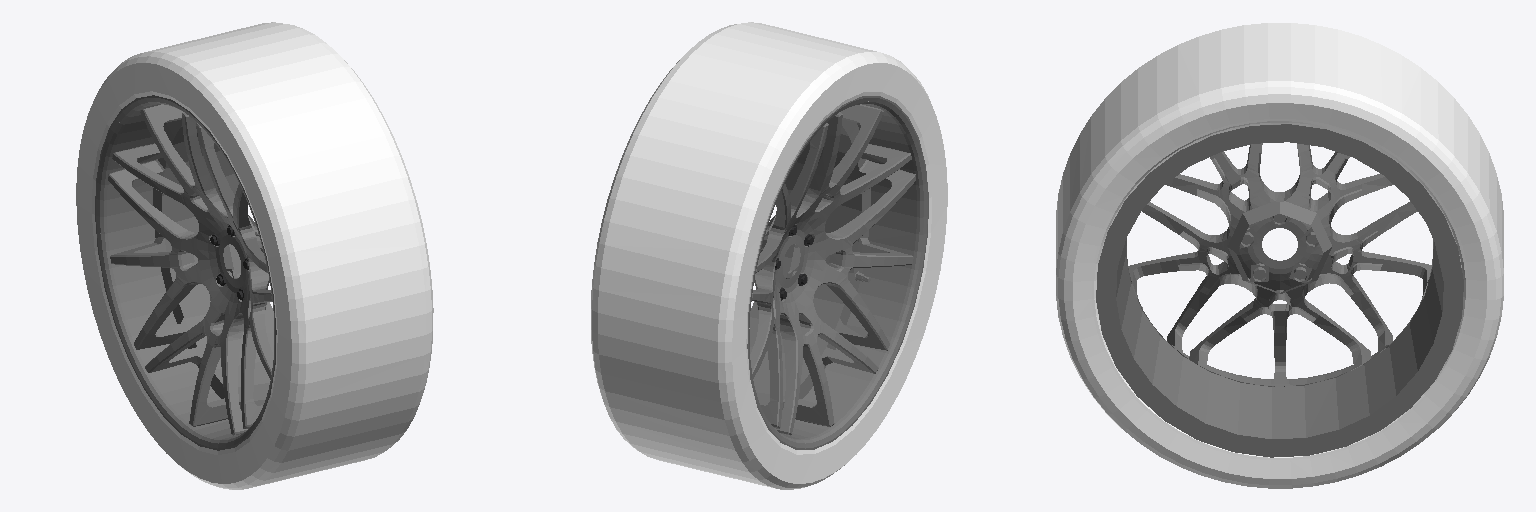
Rendered from LlantaIzqFront.obj.
3 views of the same model, side by side, from view 1: azimuth 30°, elevation 25°; view 2: azimuth 150°, elevation 25°; view 3: azimuth 270°, elevation 25° (orthographic).
Parts seen in each view (by area): view 1: wheel_lf_pivot; view 2: wheel_lf_pivot; view 3: wheel_lf_pivot.
Boxes of the visible parts, box(x1,y1,x2,y2) form: wheel_lf_pivot: box(76, 22, 433, 489); wheel_lf_pivot: box(591, 22, 947, 489); wheel_lf_pivot: box(1056, 23, 1503, 488).
Size of the model in its own units: 2 by 5.39 by 5.39.